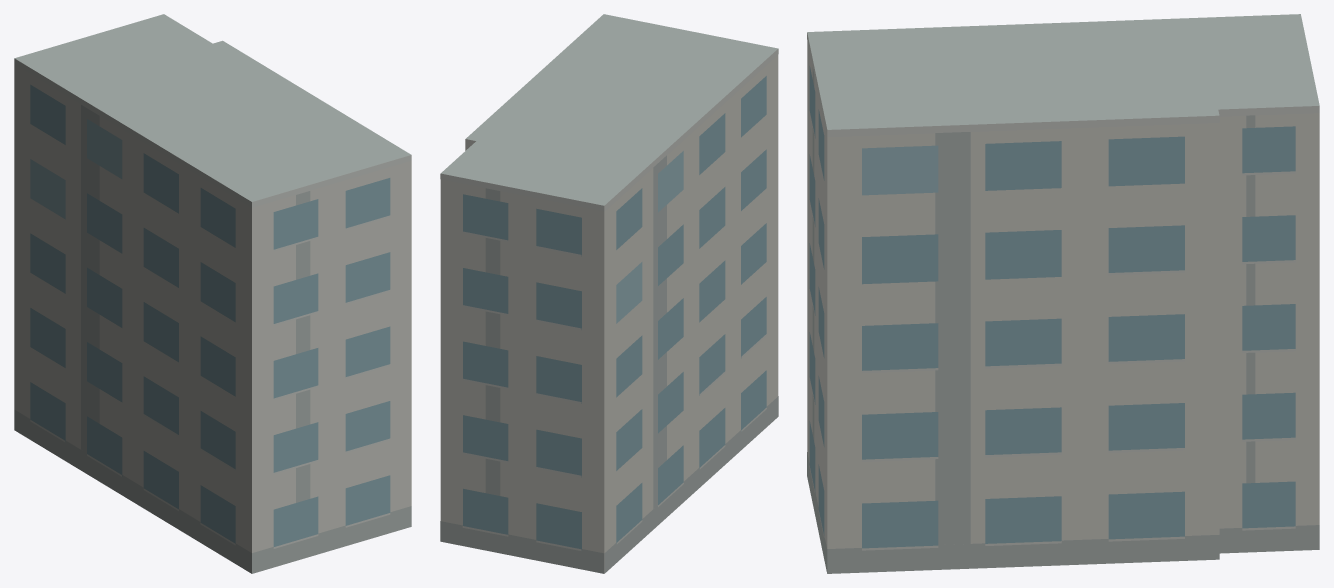
The model's file is survey-upis-32610307.glb.
3 renders of one model, left to right at view 1: azimuth 30°, elevation 25°; view 2: azimuth 150°, elevation 25°; view 3: azimuth 270°, elevation 25°, orthographic. The views are drawn at different scales.
Visible parts, largest first — view 1: survey-upis-32610307.tmp; view 2: survey-upis-32610307.tmp; view 3: survey-upis-32610307.tmp.
Part boxes in pixels (x1,y1,x2,y2): survey-upis-32610307.tmp: (14,14,411,573); survey-upis-32610307.tmp: (440,14,778,573); survey-upis-32610307.tmp: (807,14,1319,573).
Size of the model in its own units: 8.55 by 15.25 by 15.97.
